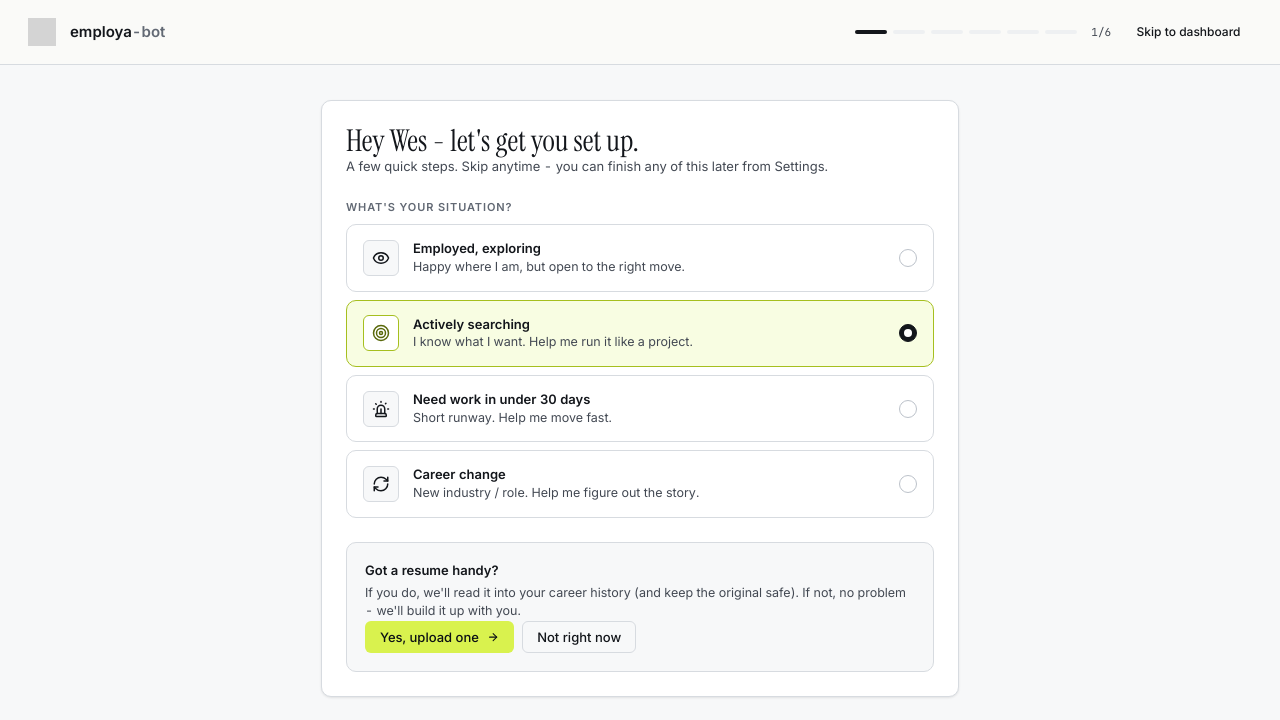
Scenario: OnboardingScreen › forks into Branch B (no resume) -> light profile
Click the button "Not right now".
click(579, 637)  # box [522, 621, 636, 653]
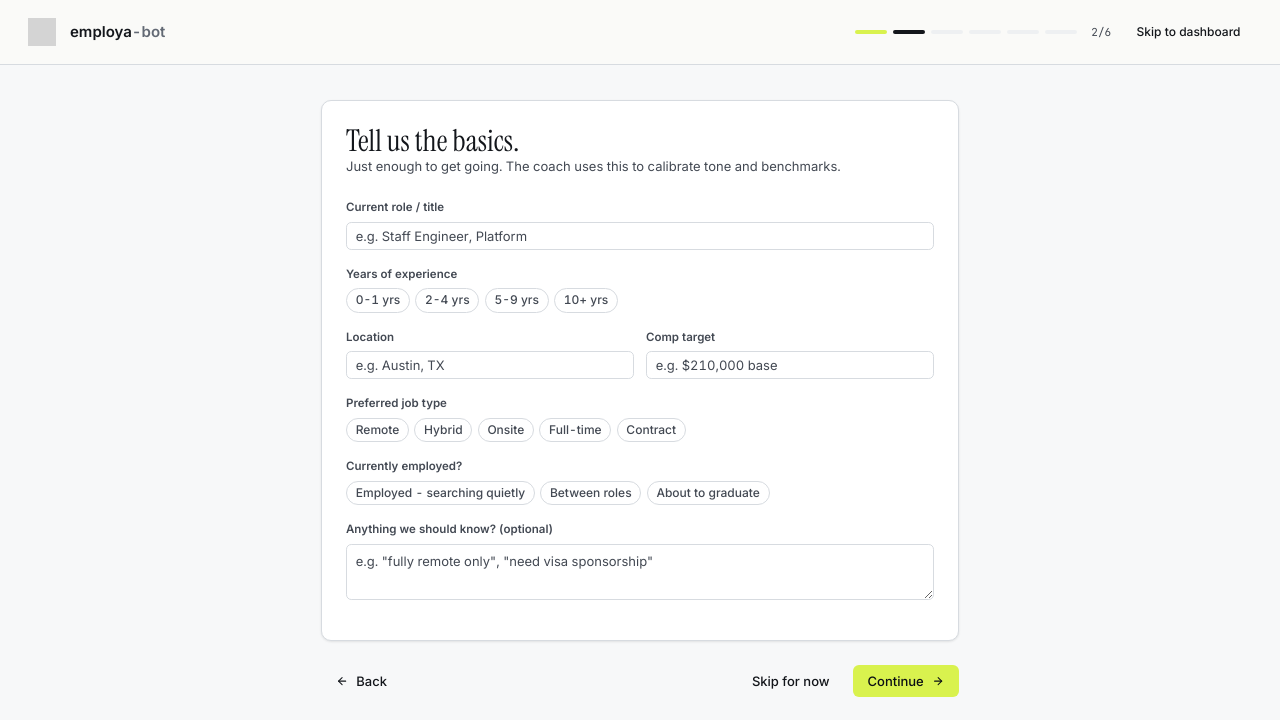
Check: the heading "Tell us the basics." is shown, box [346, 121, 519, 160]
